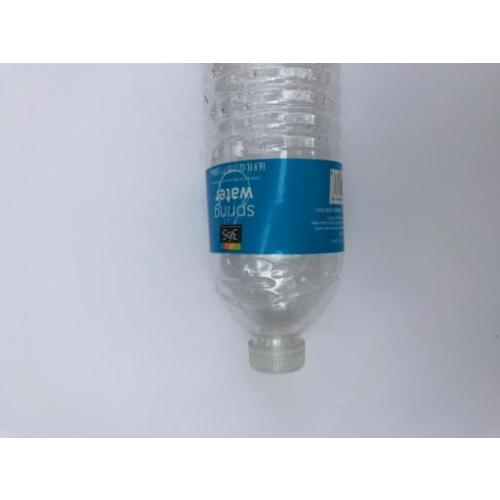plastic: (204, 65, 344, 374)
